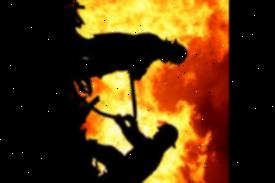fire: (180, 83, 220, 183), (70, 0, 185, 34), (190, 0, 229, 54), (102, 73, 130, 113)
